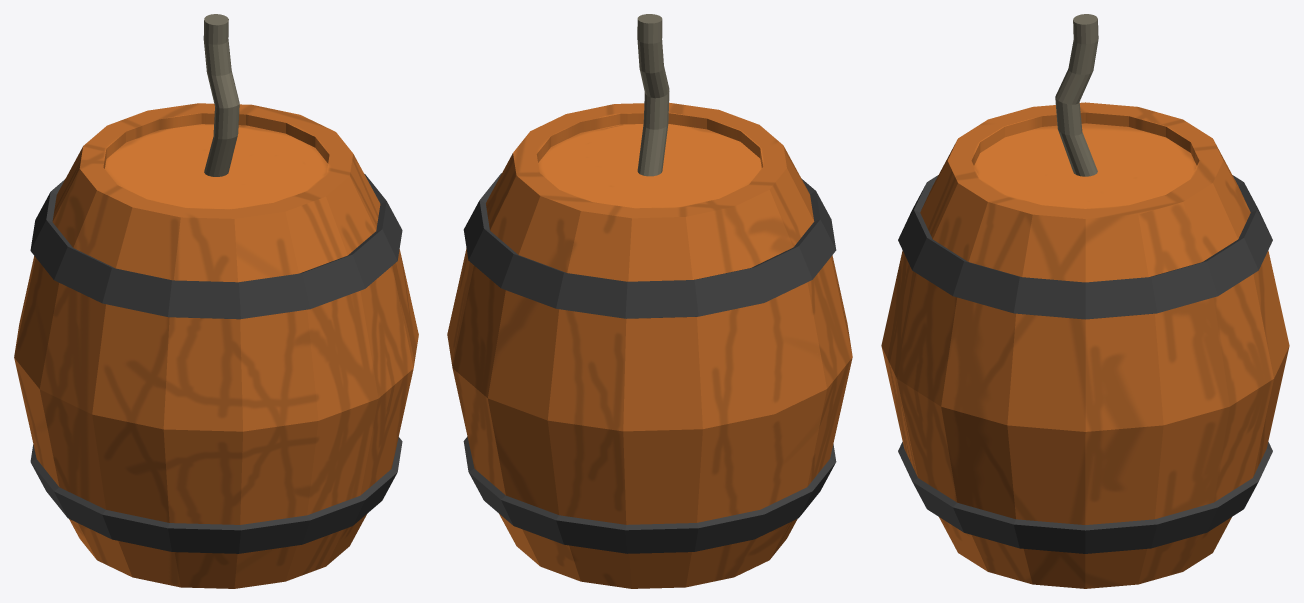
Rendered from Bomba.fbx.
3 renders of one model, left to right at view 1: azimuth 30°, elevation 25°; view 2: azimuth 150°, elevation 25°; view 3: azimuth 270°, elevation 25°, orthographic.
Visible parts, largest first — view 1: Bomba, Metal, Pavil; view 2: Bomba, Metal, Pavil; view 3: Bomba, Metal, Pavil.
Part boxes in pixels (left/top/right/bottom): Bomba: left=14, top=103, right=418, bottom=588; Metal: left=30, top=174, right=402, bottom=553; Pavil: left=203, top=14, right=239, bottom=176; Bomba: left=447, top=102, right=852, bottom=588; Metal: left=463, top=173, right=836, bottom=553; Pavil: left=637, top=14, right=669, bottom=176; Bomba: left=881, top=102, right=1289, bottom=588; Metal: left=898, top=175, right=1272, bottom=553; Pavil: left=1055, top=14, right=1098, bottom=176.
Bounding box in the file's own units: 200 × 277 × 200.
